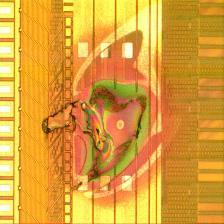PARTICLE: (40, 78, 167, 209)
